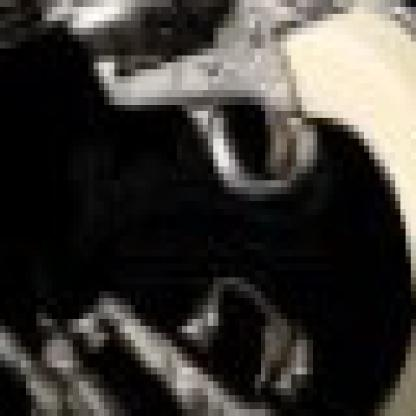gun: (0, 0, 411, 312), (0, 118, 411, 409)
